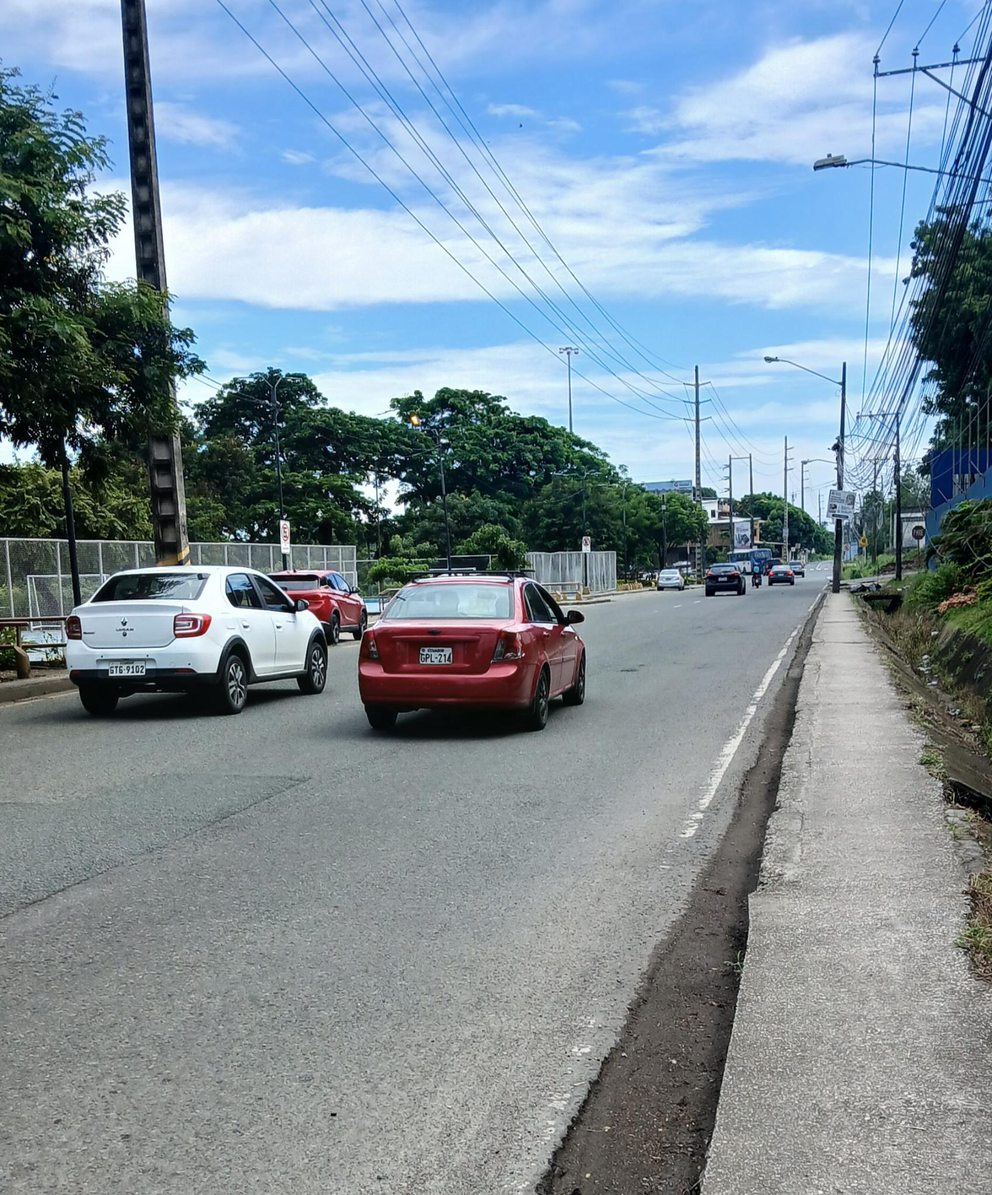license_plate: (418, 646, 452, 663), (106, 663, 145, 676), (719, 577, 729, 582)
